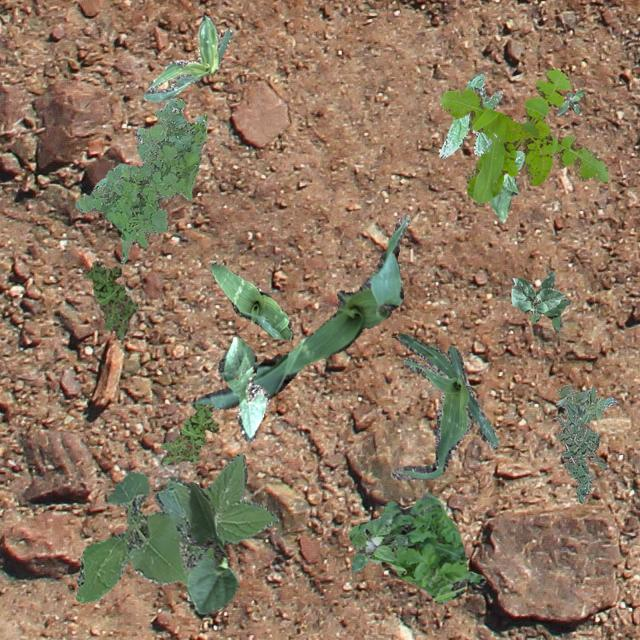crop: (194, 212, 410, 408), (390, 332, 498, 478), (142, 15, 232, 101), (185, 481, 238, 614), (208, 262, 292, 338), (216, 334, 268, 442), (488, 148, 524, 222), (509, 276, 564, 314)
weed: (75, 452, 278, 602), (438, 66, 608, 202), (75, 96, 206, 264), (346, 492, 484, 602), (438, 72, 502, 156), (556, 398, 606, 502), (84, 260, 138, 338), (160, 402, 218, 463), (350, 510, 408, 570), (529, 270, 569, 330), (556, 384, 616, 422), (556, 88, 584, 114)
